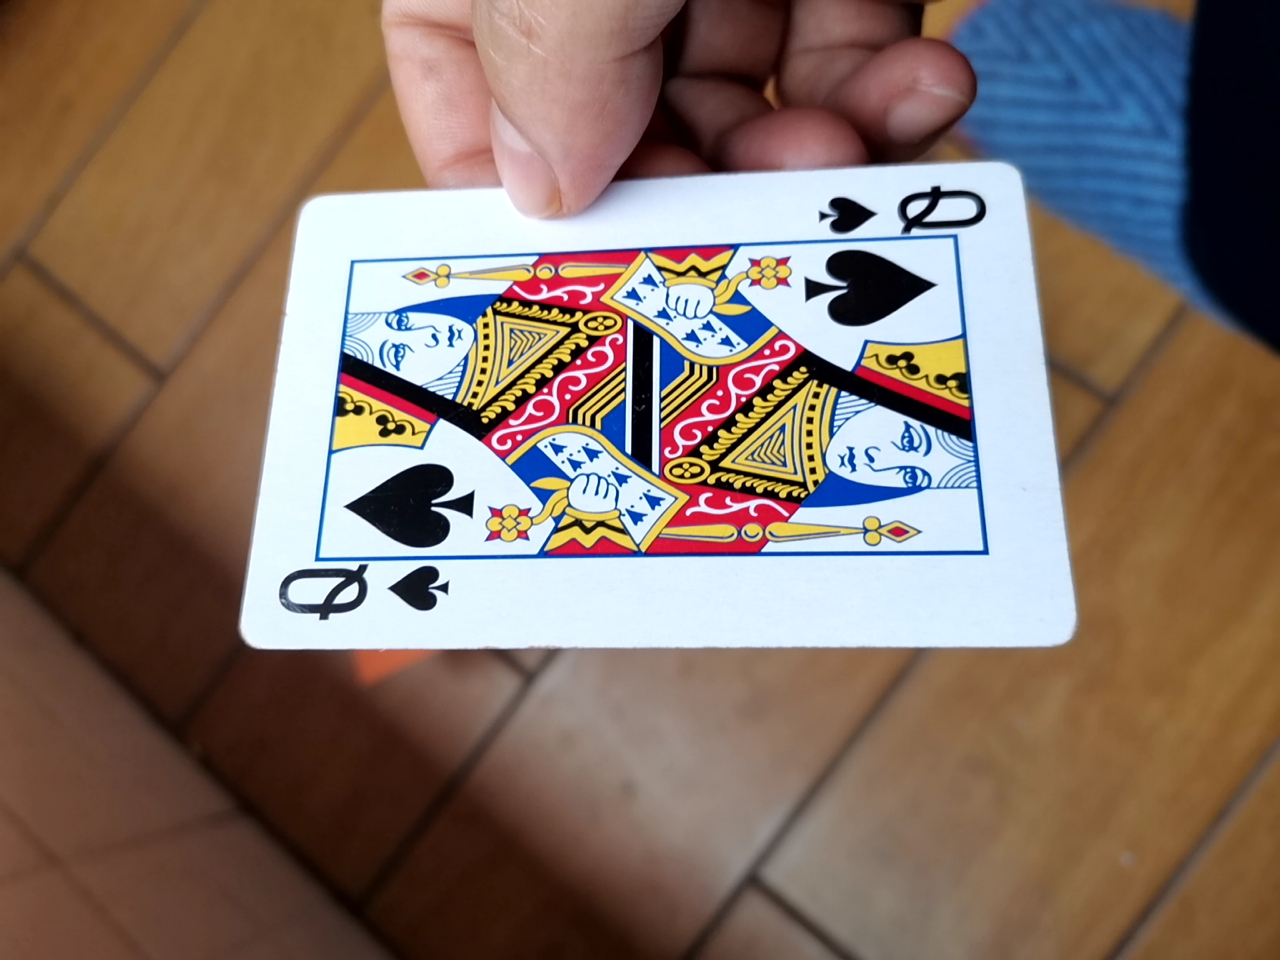ht q: (241, 154, 1085, 674)
